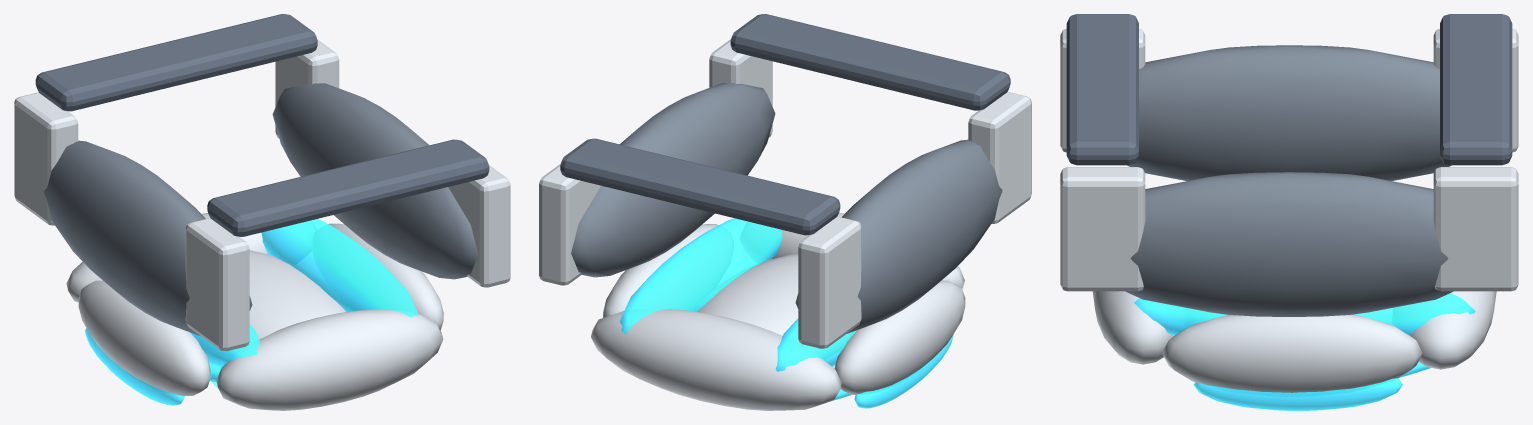
Rendered from segmented-lightwrap-v1.glb.
3 views of the same model, side by side, from view 1: azimuth 30°, elevation 25°; view 2: azimuth 150°, elevation 25°; view 3: azimuth 270°, elevation 25° (orthographic). The views are drawn at different scales.
Visible parts, largest first — view 1: soft leg-side wrap.001, soft leg-side wrap, lower segmented white cap, wide adjustable rear strap, wide adjustable rear strap.001, split white side plate, side color accent beneath white frame, white strap buckle, white strap buckle.002, white central protective plate, white strap buckle.001, white strap buckle.003 (+4 smaller); view 2: soft leg-side wrap.001, soft leg-side wrap, upper segmented white cap, wide adjustable rear strap.001, wide adjustable rear strap, side color accent beneath white frame, split white side plate, white strap buckle.002, white strap buckle, white central protective plate, white strap buckle.003, white strap buckle.001 (+4 smaller); view 3: soft leg-side wrap, soft leg-side wrap.001, split white side plate.001, wide adjustable rear strap, wide adjustable rear strap.001, white strap buckle.001, white strap buckle.003, upper segmented white cap, lower segmented white cap, cyan side inset, side color accent beneath white frame, white strap buckle (+1 smaller).
Boxes of the visible parts, x1,y1,x2,y2 form: soft leg-side wrap.001: (44, 140, 252, 336); soft leg-side wrap: (272, 83, 478, 279); lower segmented white cap: (216, 309, 443, 410); wide adjustable rear strap: (207, 139, 489, 236); wide adjustable rear strap.001: (35, 14, 317, 111); split white side plate: (78, 280, 210, 395); side color accent beneath white frame: (261, 219, 417, 317); white strap buckle: (185, 218, 249, 351); white strap buckle.002: (14, 92, 78, 225); white central protective plate: (249, 250, 346, 339); white strap buckle.001: (448, 165, 510, 287); white strap buckle.003: (275, 39, 339, 138); soft leg-side wrap.001: (795, 139, 1002, 333); soft leg-side wrap: (571, 83, 775, 277); upper segmented white cap: (591, 309, 841, 410); wide adjustable rear strap.001: (560, 138, 840, 235); wide adjustable rear strap: (730, 14, 1010, 110); side color accent beneath white frame: (620, 218, 782, 334); split white side plate: (834, 280, 965, 394); white strap buckle.002: (798, 216, 861, 348); white strap buckle: (968, 92, 1031, 223); white central protective plate: (697, 254, 798, 335); white strap buckle.003: (539, 163, 600, 285); white strap buckle.001: (709, 39, 772, 137); soft leg-side wrap: (1125, 172, 1453, 316); soft leg-side wrap.001: (1127, 45, 1451, 180); split white side plate.001: (1162, 314, 1422, 392); wide adjustable rear strap: (1066, 14, 1138, 165); wide adjustable rear strap.001: (1440, 14, 1512, 165); white strap buckle.001: (1060, 167, 1145, 291); white strap buckle.003: (1433, 167, 1518, 291); upper segmented white cap: (1410, 291, 1496, 369); lower segmented white cap: (1092, 291, 1173, 364); cyan side inset: (1193, 378, 1402, 410); side color accent beneath white frame: (1134, 293, 1475, 335); white strap buckle: (1060, 29, 1145, 152).
Size of the model in its own units: 0.538 by 0.4485 by 0.626.
